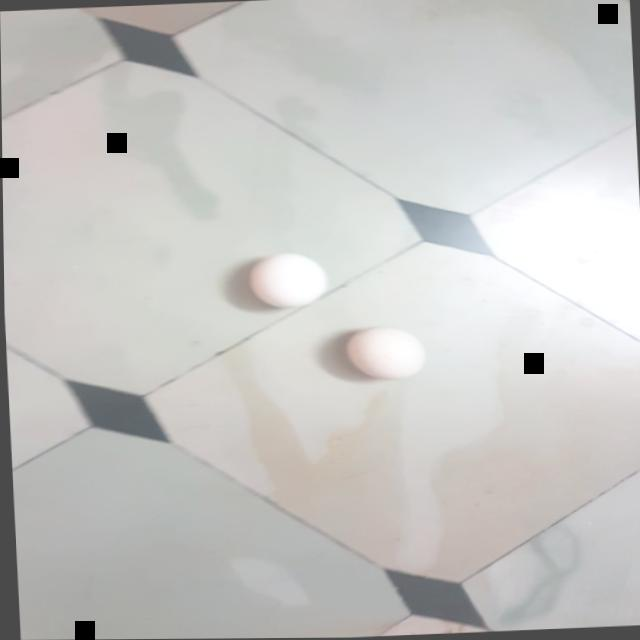eggs: (244, 251, 327, 311), (343, 326, 425, 381)
